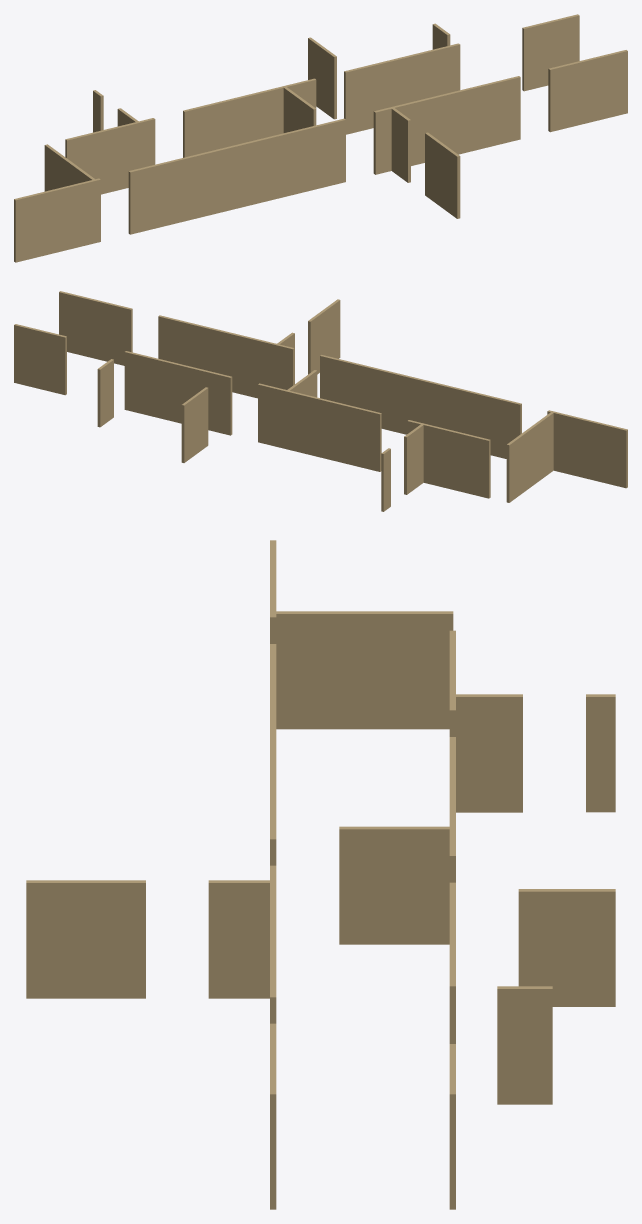
Rendered from Small_BuildingV3_interior.fbx.
3 views of the same model, one above another, from view 1: azimuth 30°, elevation 25°; view 2: azimuth 150°, elevation 25°; view 3: azimuth 270°, elevation 25° (orthographic). The views are drawn at different scales.
Parts seen in each view (by area): view 1: Plane; view 2: Plane; view 3: Plane.
Boxes of the visible parts, <box> form: Plane: <box>14,14,627,262</box>; Plane: <box>14,291,627,511</box>; Plane: <box>26,540,615,1209</box>.
Size of the model in its own units: 2085 by 203 by 937.
